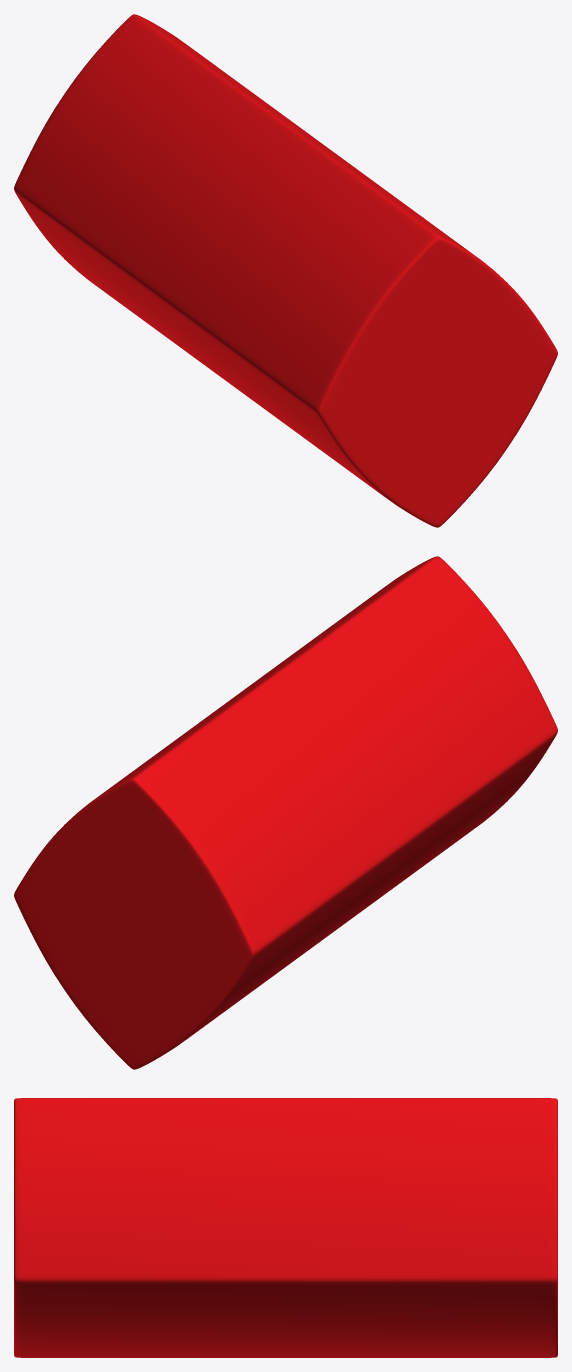
Rendered from Receptor_Molecule.fbx.
3 views of the same model, one above another, from view 1: azimuth 30°, elevation 25°; view 2: azimuth 150°, elevation 25°; view 3: azimuth 270°, elevation 25° (orthographic). The views are drawn at different scales.
Parts seen in each view (by area): view 1: Receptor_Molecule; view 2: Receptor_Molecule; view 3: Receptor_Molecule.
Part boxes in pixels (x1,y1,x2,y2): Receptor_Molecule: [14, 14, 557, 527]; Receptor_Molecule: [14, 556, 557, 1069]; Receptor_Molecule: [14, 1098, 557, 1357].
Size of the model in its own units: 235 by 272 by 517.
